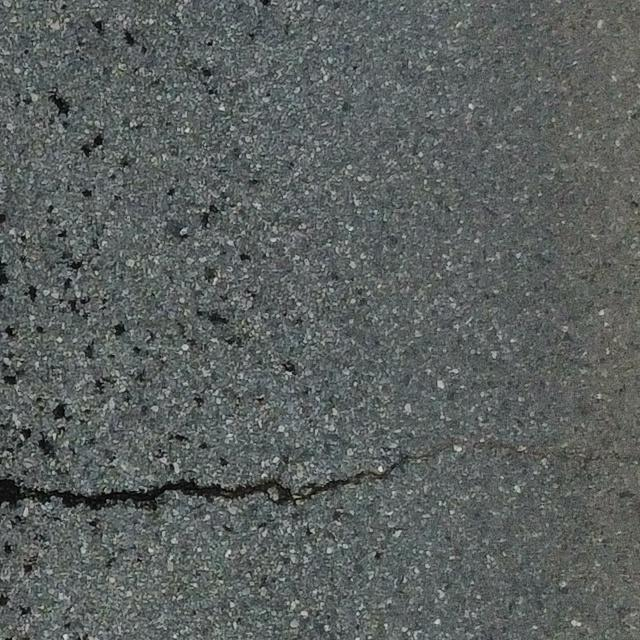TransverseCrack: (1, 453, 411, 512)
